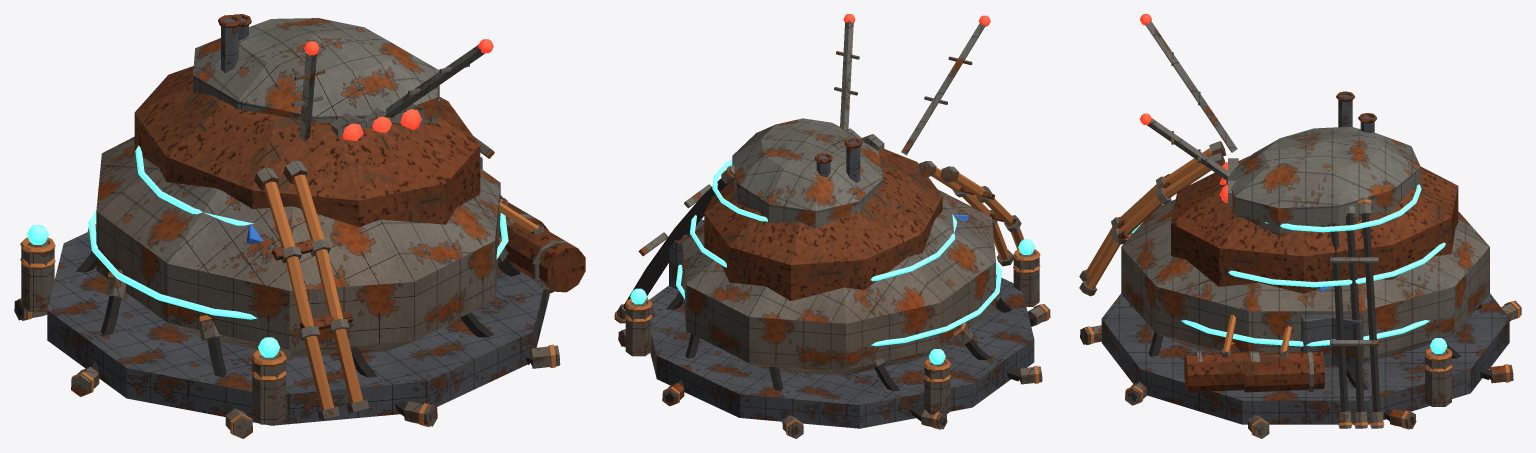
Rendered from intelligence.glb.
The picture shows the model from 3 angles, left to right: view 1: azimuth 30°, elevation 25°; view 2: azimuth 150°, elevation 25°; view 3: azimuth 270°, elevation 25°; orthographic projection. The views are drawn at different scales.
Parts seen in each view (by area): view 1: intelligence; view 2: intelligence; view 3: intelligence.
Part boxes in pixels (x1,y1,x2,y2): intelligence: (14, 14, 585, 438); intelligence: (614, 14, 1050, 438); intelligence: (1079, 14, 1521, 438).
Bounding box in the file's own units: 5.05 × 3.74 × 4.99.
Materials: 8 (3 with a texture image).
